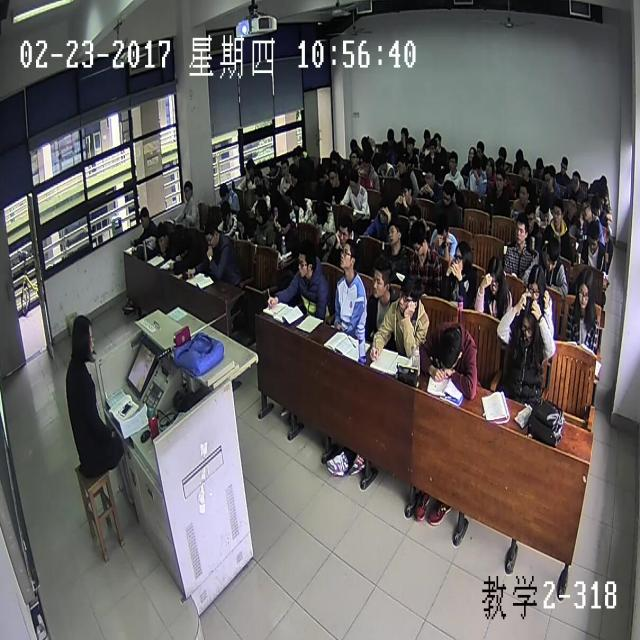person: (63, 309, 97, 365), (516, 291, 540, 349), (398, 275, 424, 318), (438, 322, 462, 368), (527, 260, 547, 306), (409, 221, 430, 263), (452, 237, 473, 279), (574, 267, 594, 311), (296, 238, 317, 279), (371, 258, 392, 297), (484, 258, 504, 297), (542, 234, 560, 273), (339, 238, 358, 274), (584, 219, 600, 255), (202, 219, 221, 249), (512, 211, 528, 246), (395, 173, 412, 205), (386, 217, 402, 249), (338, 216, 354, 246), (405, 206, 422, 234), (136, 207, 152, 236), (311, 196, 327, 225), (434, 216, 449, 246), (439, 178, 454, 206), (537, 191, 550, 223), (377, 198, 392, 225), (154, 222, 168, 250), (523, 202, 536, 232), (551, 197, 563, 229), (253, 198, 266, 225), (178, 233, 192, 258), (290, 190, 304, 215), (590, 193, 602, 221), (348, 170, 360, 197), (516, 182, 528, 208), (278, 211, 292, 233), (446, 148, 458, 173), (314, 163, 326, 187), (327, 164, 339, 188), (542, 168, 554, 192), (579, 198, 591, 222), (219, 200, 231, 222), (423, 165, 434, 189), (514, 145, 525, 169), (218, 179, 230, 200), (532, 156, 544, 177), (558, 150, 568, 175), (278, 156, 289, 178), (395, 153, 406, 175), (470, 155, 481, 177), (565, 195, 576, 217), (570, 169, 579, 194), (182, 180, 193, 200), (254, 182, 265, 202), (361, 151, 371, 173), (494, 169, 504, 191), (517, 158, 528, 178), (288, 162, 297, 185), (329, 148, 339, 168), (496, 142, 506, 162), (377, 152, 388, 170), (398, 124, 409, 142), (271, 203, 282, 220), (269, 188, 279, 206), (267, 158, 277, 176), (348, 150, 358, 168), (360, 134, 370, 152), (484, 158, 494, 176), (295, 141, 306, 157), (380, 138, 390, 155), (406, 135, 415, 153), (348, 136, 358, 152), (428, 137, 436, 157), (467, 143, 475, 163), (422, 126, 430, 145), (476, 139, 484, 158), (494, 157, 504, 172), (386, 126, 394, 144), (244, 160, 252, 177), (290, 146, 298, 163), (253, 169, 261, 185), (599, 174, 607, 190), (595, 181, 602, 199), (434, 132, 441, 148)
